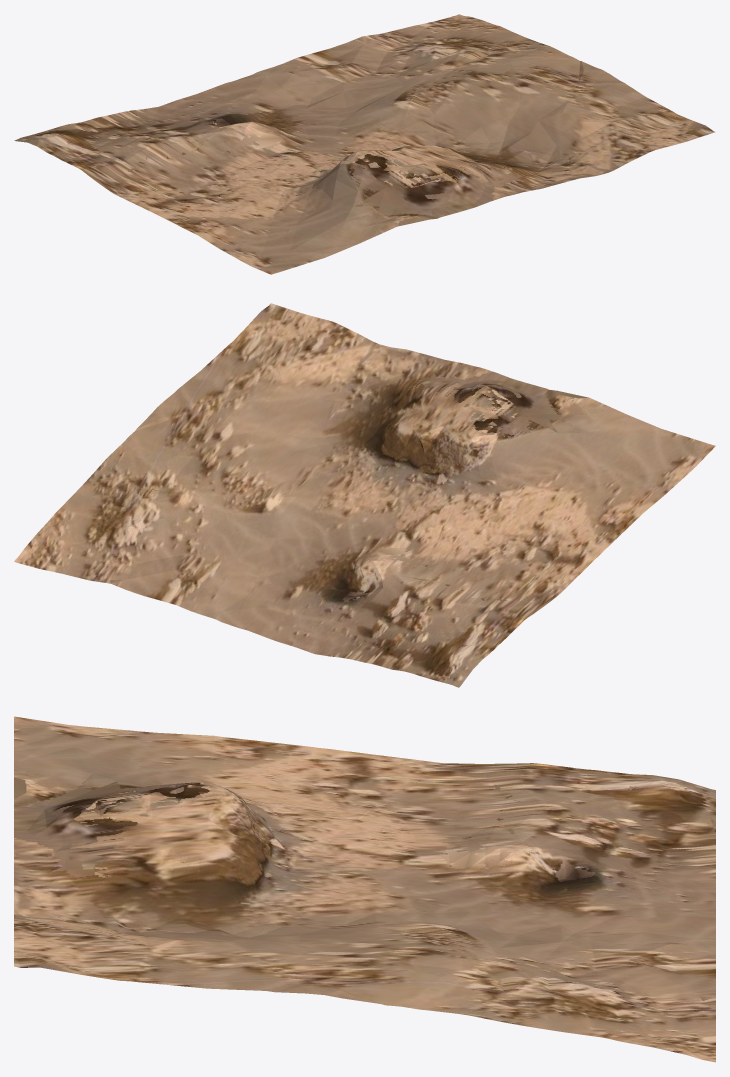
3 renders of one model, top to bottom at view 1: azimuth 30°, elevation 25°; view 2: azimuth 150°, elevation 25°; view 3: azimuth 270°, elevation 25°, orthographic. The views are drawn at different scales.
Size of the model in its own units: 1.04 by 0.2006 by 1.04.
Materials: 3 (3 with a texture image).
